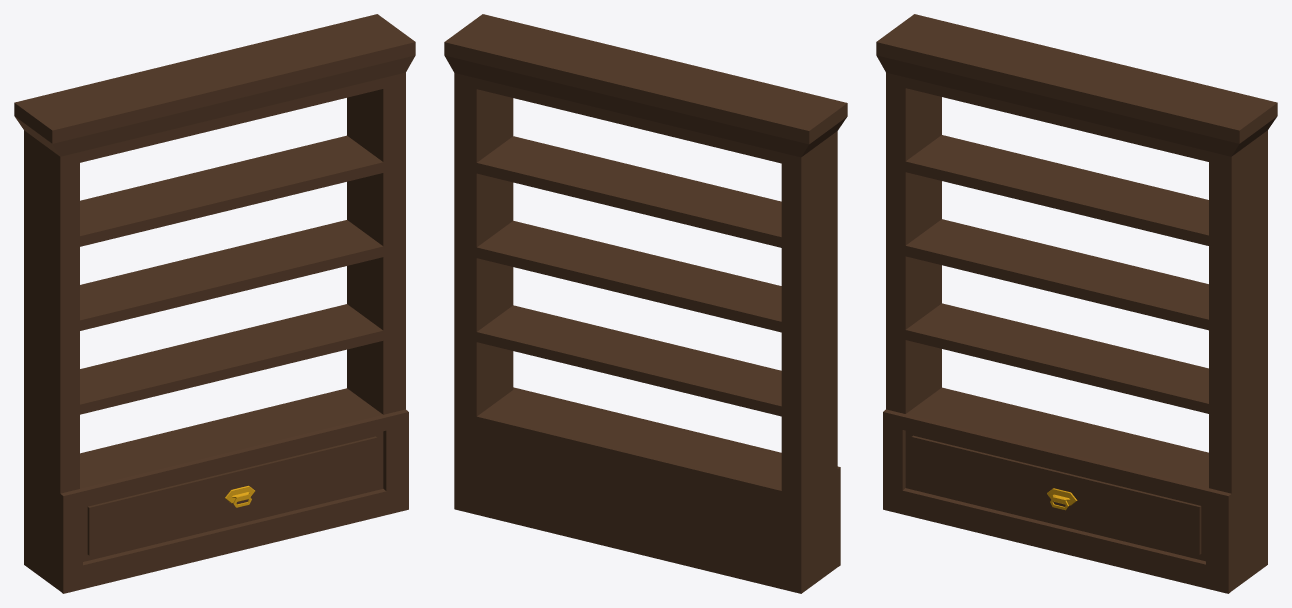
File: Armario.fbx
The picture shows the model from 3 angles, left to right: view 1: azimuth 30°, elevation 25°; view 2: azimuth 150°, elevation 25°; view 3: azimuth 330°, elevation 25°; orthographic projection.
Visible parts, largest first — view 1: armario; view 2: armario; view 3: armario.
Part boxes in pixels (x1,y1,x2,y2): armario: [14, 14, 415, 593]; armario: [444, 14, 847, 593]; armario: [876, 14, 1277, 593].
Size of the model in its own units: 207 by 252 by 41.47.
